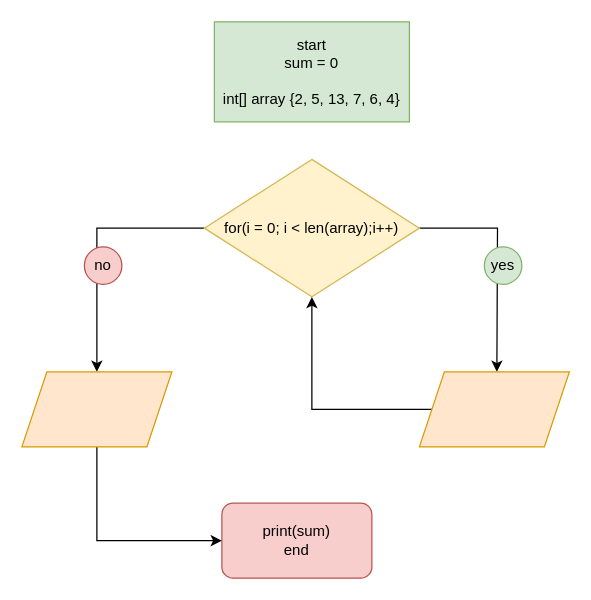
Image size: 591x600. Some labels were removed from this diagram. The shapes that lost their labels are listed below. From the top down, each one's centre as x and y in pixels, then its label:
(96,409): sum /= len(array)
(493,409): sum += array[i]
